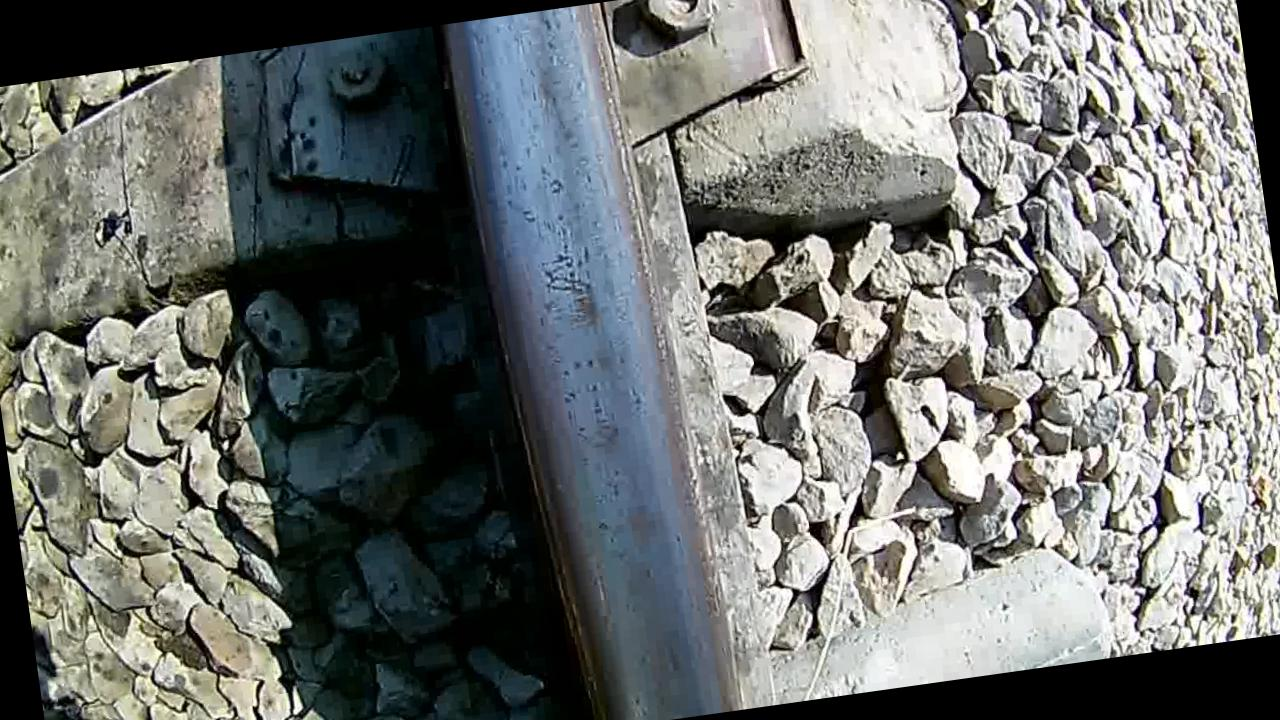crack: (445, 0, 717, 720)
